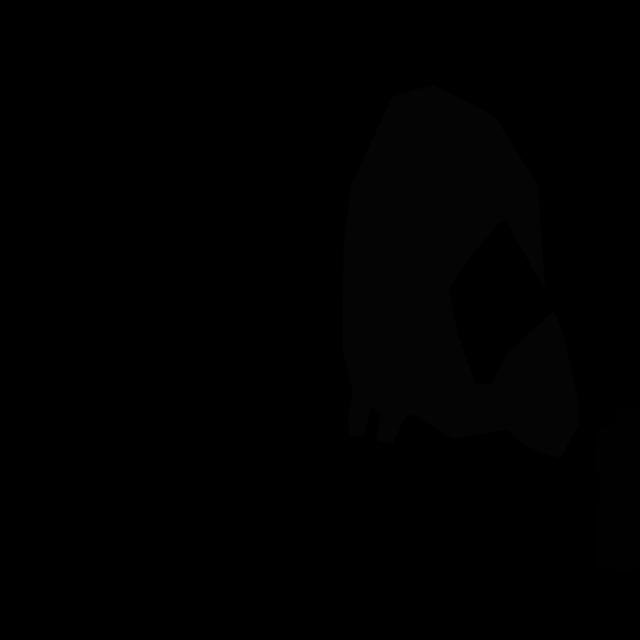rigid_plastic: (594, 403, 640, 573)
soft_plastic: (342, 84, 578, 458)
